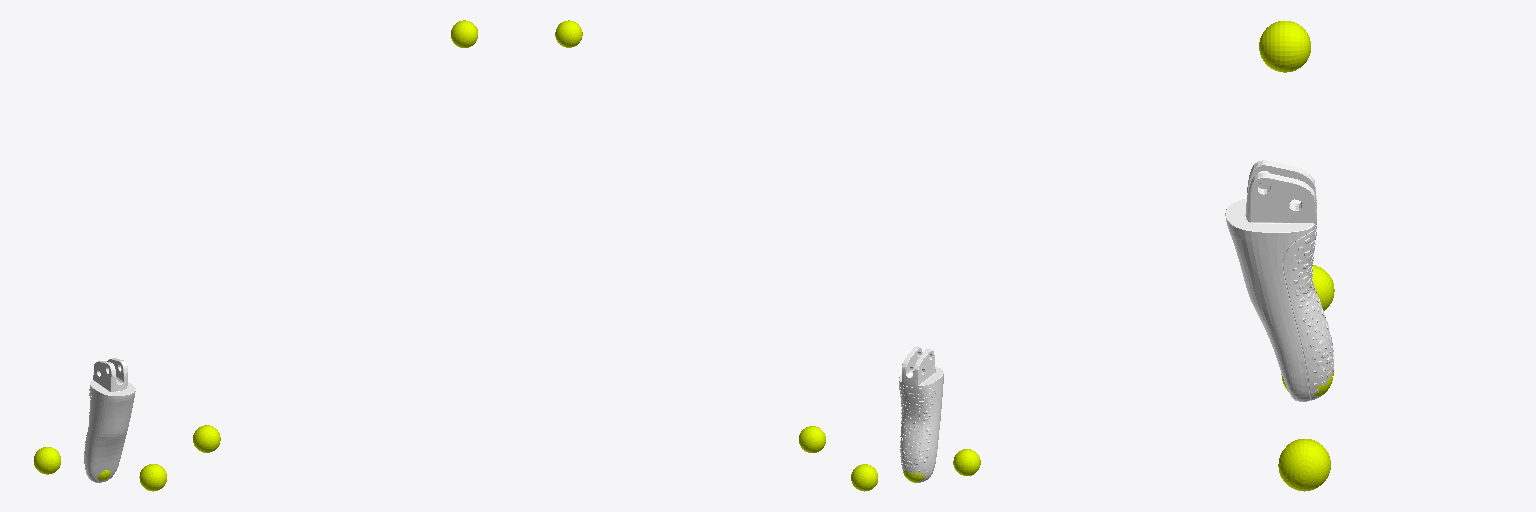
robot.urdf — fourier_right_hand_6dof:
<?xml version="1.0" encoding="utf-8"?>

<!-- 04102025-alpha-1 -->

<robot name="fourier_right_hand_6dof">
  <link
    name="R_hand_base_link">
    <inertial>
      <origin
        xyz="-0.0010591 0.0016177 -0.049492"
        rpy="0 0 0" />
      <mass
        value="0.2993" />
      <inertia
        ixx="0.00020609"
        ixy="1.23E-06"
        ixz="8.3E-06"
        iyy="0.00028713"
        iyz="-7.35E-06"
        izz="0.00014748" />
    </inertial>
    <visual>
      <origin
        xyz="0 0 0"
        rpy="0 0 0" />
      <geometry>
        <mesh
          filename="../meshes/fourier_hand_6dof/R_hand_base_link.STL" />
      </geometry>
      <material
        name="">
        <color
          rgba="1 1 1 1" />
      </material>
    </visual>
    <collision>
      <origin
        xyz="0 0 0"
        rpy="0 0 0" />
      <geometry>
        <mesh
          filename="../meshes/fourier_hand_6dof/R_hand_base_link.STL" />
      </geometry>
    </collision>
  </link>
  <!-- <joint
    name="R_hand_base_joint"
    type="fixed">
    <origin
      xyz="0 0 0"
      rpy="0 0 0" />
    <parent
      link="right_end_effector_link" />
    <child
      link="R_hand_base_link" />
    <axis
      xyz="0 0 0" />
  </joint> -->

  <link
    name="R_hand_wrist_link">
  </link>
  <joint
    name="R_hand_wrist_joint"
    type="fixed">
    <origin
      xyz="0 0 0"
      rpy="0.0872 0 0" />
    <parent
      link="R_hand_base_link" />
    <child
      link="R_hand_wrist_link" />
    <axis
      xyz="0 0 0" />
  </joint>


  <link
    name="R_thumb_proximal_yaw_link">
    <inertial>
      <origin
        xyz="0.011674 -0.00039794 -0.00044567"
        rpy="0 0 0" />
      <mass
        value="0.0084327" />
      <inertia
        ixx="3E-07"
        ixy="1E-08"
        ixz="5E-08"
        iyy="8.8E-07"
        iyz="0"
        izz="8.5E-07" />
    </inertial>
    <visual>
      <origin
        xyz="0 0 0"
        rpy="0 0 0" />
      <geometry>
        <mesh
          filename="../meshes/fourier_hand_6dof/R_thumb_proximal_yaw_link.STL" />
      </geometry>
      <material
        name="">
        <color
          rgba="1 1 1 1" />
      </material>
    </visual>
    <collision>
      <origin
        xyz="0 0 0"
        rpy="0 0 0" />
      <geometry>
        <mesh
          filename="../meshes/fourier_hand_6dof/R_thumb_proximal_yaw_link.STL" />
      </geometry>
    </collision>
  </link>
  <joint
    name="R_thumb_proximal_yaw_joint"
    type="revolute">
    <origin
      xyz="0.022 0.0155 -0.022892"
      rpy="3.1416 0 0" />
    <parent
      link="R_hand_base_link" />
    <child
      link="R_thumb_proximal_yaw_link" />
    <axis
      xyz="0 0 1" />
    <limit
      lower="-1.696"
      upper="0"
      effort="0"
      velocity="0" />
  </joint>
  <link
    name="R_thumb_proximal_pitch_link">
    <inertial>
      <origin
        xyz="0.034496 0.00048877 1.942E-05"
        rpy="0 0 0" />
      <mass
        value="0.060766" />
      <inertia
        ixx="5.08E-06"
        ixy="8.1E-07"
        ixz="2E-08"
        iyy="1.71E-05"
        iyz="0"
        izz="1.85E-05" />
    </inertial>
    <visual>
      <origin
        xyz="0 0 0"
        rpy="0 0 0" />
      <geometry>
        <mesh
          filename="../meshes/fourier_hand_6dof/R_thumb_proximal_pitch_link.STL" />
      </geometry>
      <material
        name="">
        <color
          rgba="1 1 1 1" />
      </material>
    </visual>
    <collision>
      <origin
        xyz="0 0 0"
        rpy="0 0 0" />
      <geometry>
        <mesh
          filename="../meshes/fourier_hand_6dof/R_thumb_proximal_pitch_link.STL" />
      </geometry>
    </collision>
  </link>
  <joint
    name="R_thumb_proximal_pitch_joint"
    type="revolute">
    <origin
      xyz="0.02175 -7.414E-05 0"
      rpy="1.5708 0 -0.0057076" />
    <parent
      link="R_thumb_proximal_yaw_link" />
    <child
      link="R_thumb_proximal_pitch_link" />
    <axis
      xyz="0 0 1" />
    <limit
      lower="0"
      upper="1.143"
      effort="0"
      velocity="0" />
  </joint>
  <link
    name="R_thumb_distal_link">
    <inertial>
      <origin
        xyz="0.01286229 -0.00290348 0"
        rpy="0 0 0" />
      <mass
        value="0.01802377" />
      <inertia
        ixx="8.6E-07"
        ixy="-1.4E-07"
        ixz="0"
        iyy="2E-06"
        iyz="0"
        izz="1.87E-06" />
    </inertial>
    <visual>
      <origin
        xyz="0 0 0"
        rpy="0 0 0" />
      <geometry>
        <mesh
          filename="../meshes/fourier_hand_6dof/R_thumb_distal_link.STL" />
      </geometry>
      <material
        name="">
        <color
          rgba="1 1 1 1" />
      </material>
    </visual>
    <collision>
      <origin
        xyz="0 0 0"
        rpy="0 0 0" />
      <geometry>
        <mesh
          filename="../meshes/fourier_hand_6dof/R_thumb_distal_link.STL" />
      </geometry>
    </collision>
  </link>
  <joint
    name="R_thumb_distal_joint"
    type="revolute">
    <origin
      xyz="0.061549 0.007464 0"
      rpy="0 1.7448E-05 -0.055652" />
    <parent
      link="R_thumb_proximal_pitch_link" />
    <child
      link="R_thumb_distal_link" />
    <axis
      xyz="0 0 1" />
    <limit
      lower="0"
      upper="1.248"
      effort="0"
      velocity="0" />
    <mimic
      joint="R_thumb_proximal_pitch_joint"
      multiplier="1.06"
      offset="0" />
  </joint>

  <link name="R_thumb_tip_link">
    <visual>
      <origin
        xyz="0 0 0"
        rpy="0 0 0" />
      <geometry>
        <sphere radius="0.005" />
      </geometry>
      <material name="yellow">
        <color rgba="0.9 1 0 1" />
      </material>
    </visual>
  </link>
  <joint name="R_thumb_tip_joint" type="fixed">
    <parent link="R_thumb_distal_link" />
    <child link="R_thumb_tip_link" />
    <origin rpy="0 0 0" xyz="0.030 -0.0015 0" />
  </joint>


  <link
    name="R_index_proximal_link">
    <inertial>
      <origin
        xyz="0.01388484 0.00133877 9.91E-06"
        rpy="0 0 0" />
      <mass
        value="0.01124444" />
      <inertia
        ixx="7E-07"
        ixy="2.1E-07"
        ixz="0"
        iyy="1.81E-06"
        iyz="0"
        izz="1.87E-06" />
    </inertial>
    <visual>
      <origin
        xyz="0 0 0"
        rpy="0 0 0" />
      <geometry>
        <mesh
          filename="../meshes/fourier_hand_6dof/R_index_proximal_link.STL" />
      </geometry>
      <material
        name="">
        <color
          rgba="1 1 1 1" />
      </material>
    </visual>
    <collision>
      <origin
        xyz="0 0 0"
        rpy="0 0 0" />
      <geometry>
        <mesh
          filename="../meshes/fourier_hand_6dof/R_index_proximal_link.STL" />
      </geometry>
    </collision>
  </link>
  <joint
    name="R_index_proximal_joint"
    type="revolute">
    <origin
      xyz="0.026866 0.0123 -0.09399"
      rpy="3.1416 1.5184 0" />
    <parent
      link="R_hand_base_link" />
    <child
      link="R_index_proximal_link" />
    <axis
      xyz="0 0 1" />
    <limit
      lower="-1.592"
      upper="0"
      effort="0"
      velocity="0" />
  </joint>
  <link
    name="R_index_intermediate_link">
    <inertial>
      <origin
        xyz="0.01473915 0.00479264 6.8E-06"
        rpy="0 0 0" />
      <mass
        value="0.0027085" />
      <inertia
        ixx="8E-08"
        ixy="3E-08"
        ixz="0"
        iyy="4.9E-07"
        iyz="0"
        izz="4.9E-07" />
    </inertial>
    <visual>
      <origin
        xyz="0 0 0"
        rpy="0 0 0" />
      <geometry>
        <mesh
          filename="../meshes/fourier_hand_6dof/R_index_intermediate_link.STL" />
      </geometry>
      <material
        name="">
        <color
          rgba="1 1 1 1" />
      </material>
    </visual>
    <collision>
      <origin
        xyz="0 0 0"
        rpy="0 0 0" />
      <geometry>
        <mesh
          filename="../meshes/fourier_hand_6dof/R_index_intermediate_link.STL" />
      </geometry>
    </collision>
  </link>
  <joint
    name="R_index_intermediate_joint"
    type="revolute">
    <origin
      xyz="0.031535 -0.0054349 0"
      rpy="0 0.00014037 -0.0012936" />
    <parent
      link="R_index_proximal_link" />
    <child
      link="R_index_intermediate_link" />
    <axis
      xyz="0 0 1" />
    <limit
      lower="-1.791"
      upper="0"
      effort="0"
      velocity="0" />
    <mimic
      joint="R_index_proximal_joint"
      multiplier="0.975"
      offset="0" />
  </joint>

  <link name="R_index_tip_link">
    <visual>
      <origin
        xyz="0 0 0"
        rpy="0 0 0" />
      <geometry>
        <sphere radius="0.005" />
      </geometry>
      <material name="yellow">
        <color rgba="0.9 1 0 1" />
      </material>
    </visual>
  </link>
  <joint name="R_index_tip_joint" type="fixed">
    <parent link="R_index_intermediate_link" />
    <child link="R_index_tip_link" />
    <origin rpy="0 0 0" xyz="0.0390 -0.0020 0" />
  </joint>


  <link
    name="R_middle_proximal_link">
    <inertial>
      <origin
        xyz="0.01388588 0.00132788 9.91E-06"
        rpy="0 0 0" />
      <mass
        value="0.01124444" />
      <inertia
        ixx="7E-07"
        ixy="2.1E-07"
        ixz="0"
        iyy="1.81E-06"
        iyz="0"
        izz="1.87E-06" />
    </inertial>
    <visual>
      <origin
        xyz="0 0 0"
        rpy="0 0 0" />
      <geometry>
        <mesh
          filename="../meshes/fourier_hand_6dof/R_middle_proximal_link.STL" />
      </geometry>
      <material
        name="">
        <color
          rgba="1 1 1 1" />
      </material>
    </visual>
    <collision>
      <origin
        xyz="0 0 0"
        rpy="0 0 0" />
      <geometry>
        <mesh
          filename="../meshes/fourier_hand_6dof/R_middle_proximal_link.STL" />
      </geometry>
    </collision>
  </link>
  <joint
    name="R_middle_proximal_joint"
    type="revolute">
    <origin
      xyz="0.0085 0.0123 -0.096"
      rpy="3.1416 1.5708 0" />
    <parent
      link="R_hand_base_link" />
    <child
      link="R_middle_proximal_link" />
    <axis
      xyz="0 0 1" />
    <limit
      lower="-1.593"
      upper="0"
      effort="0"
      velocity="0" />
  </joint>
  <link
    name="R_middle_intermediate_link">
    <inertial>
      <origin
        xyz="0.0183602 0.00488939 0"
        rpy="0 0 0" />
      <mass
        value="0.0032739" />
      <inertia
        ixx="9E-08"
        ixy="5E-08"
        ixz="0"
        iyy="7.9E-07"
        iyz="0"
        izz="7.8E-07" />
    </inertial>
    <visual>
      <origin
        xyz="0 0 0"
        rpy="0 0 0" />
      <geometry>
        <mesh
          filename="../meshes/fourier_hand_6dof/R_middle_intermediate_link.STL" />
      </geometry>
      <material
        name="">
        <color
          rgba="1 1 1 1" />
      </material>
    </visual>
    <collision>
      <origin
        xyz="0 0 0"
        rpy="0 0 0" />
      <geometry>
        <mesh
          filename="../meshes/fourier_hand_6dof/R_middle_intermediate_link.STL" />
      </geometry>
    </collision>
  </link>
  <joint
    name="R_middle_intermediate_joint"
    type="revolute">
    <origin
      xyz="0.031531 -0.0054597 0"
      rpy="0 0.00015517 0.007959" />
    <parent
      link="R_middle_proximal_link" />
    <child
      link="R_middle_intermediate_link" />
    <axis
      xyz="0 0 1" />
    <limit
      lower="-1.792"
      upper="0"
      effort="0"
      velocity="0" />
    <mimic
      joint="R_middle_proximal_joint"
      multiplier="0.975"
      offset="0" />
  </joint>

  <link name="R_middle_tip_link">
    <visual>
      <origin
        xyz="0 0 0"
        rpy="0 0 0" />
      <geometry>
        <sphere radius="0.005" />
      </geometry>
      <material name="yellow">
        <color rgba="0.9 1 0 1" />
      </material>
    </visual>
  </link>
  <joint name="R_middle_tip_joint" type="fixed">
    <parent link="R_middle_intermediate_link" />
    <child link="R_middle_tip_link" />
    <origin rpy="0 0 0" xyz="0.047 -0.0025 0" />
  </joint>


  <link
    name="R_ring_proximal_link">
    <inertial>
      <origin
        xyz="0.01389869 0.00118633 9.91E-06"
        rpy="0 0 0" />
      <mass
        value="0.01124444" />
      <inertia
        ixx="7E-07"
        ixy="2.2E-07"
        ixz="0"
        iyy="1.81E-06"
        iyz="0"
        izz="1.87E-06" />
    </inertial>
    <visual>
      <origin
        xyz="0 0 0"
        rpy="0 0 0" />
      <geometry>
        <mesh
          filename="../meshes/fourier_hand_6dof/R_ring_proximal_link.STL" />
      </geometry>
      <material
        name="">
        <color
          rgba="1 1 1 1" />
      </material>
    </visual>
    <collision>
      <origin
        xyz="0 0 0"
        rpy="0 0 0" />
      <geometry>
        <mesh
          filename="../meshes/fourier_hand_6dof/R_ring_proximal_link.STL" />
      </geometry>
    </collision>
  </link>
  <joint
    name="R_ring_proximal_joint"
    type="revolute">
    <origin
      xyz="-0.0099658 0.0123 -0.095888"
      rpy="0 1.5184 3.1416" />
    <parent
      link="R_hand_base_link" />
    <child
      link="R_ring_proximal_link" />
    <axis
      xyz="0 0 1" />
    <limit
      lower="-1.593"
      upper="0"
      effort="0"
      velocity="0" />
  </joint>
  <link
    name="R_ring_intermediate_link">
    <inertial>
      <origin
        xyz="0.014739 0.0047926 6.8E-06"
        rpy="0 0 0" />
      <mass
        value="0.0027085" />
      <inertia
        ixx="8E-08"
        ixy="3E-08"
        ixz="0"
        iyy="4.9E-07"
        iyz="0"
        izz="4.9E-07" />
    </inertial>
    <visual>
      <origin
        xyz="0 0 0"
        rpy="0 0 0" />
      <geometry>
        <mesh
          filename="../meshes/fourier_hand_6dof/R_ring_intermediate_link.STL" />
      </geometry>
      <material
        name="">
        <color
          rgba="1 1 1 1" />
      </material>
    </visual>
    <collision>
      <origin
        xyz="0 0 0"
        rpy="0 0 0" />
      <geometry>
        <mesh
          filename="../meshes/fourier_hand_6dof/R_ring_intermediate_link.STL" />
      </geometry>
    </collision>
  </link>
  <joint
    name="R_ring_intermediate_joint"
    type="revolute">
    <origin
      xyz="0.031474 -0.0057806 0"
      rpy="0 0.00014037 -0.020997" />
    <parent
      link="R_ring_proximal_link" />
    <child
      link="R_ring_intermediate_link" />
    <axis
      xyz="0 0 1" />
    <limit
      lower="-1.791"
      upper="0"
      effort="0"
      velocity="0" />
    <mimic
      joint="R_ring_proximal_joint"
      multiplier="0.975"
      offset="0" />
  </joint>

  <link name="R_ring_tip_link">
    <visual>
      <origin
        xyz="0 0 0"
        rpy="0 0 0" />
      <geometry>
        <sphere radius="0.005" />
      </geometry>
      <material name="green">
        <color rgba="0.9 1 0 1" />
      </material>
    </visual>
  </link>
  <joint name="R_ring_tip_joint" type="fixed">
    <parent link="R_ring_intermediate_link" />
    <child link="R_ring_tip_link" />
    <origin rpy="0 0 0" xyz="0.0385 -0.0015 0" />
  </joint>

  
  <link
    name="R_pinky_proximal_link">
    <inertial>
      <origin
        xyz="0.01389865 0.0011868 1.899E-05"
        rpy="0 0 0" />
      <mass
        value="0.01124444" />
      <inertia
        ixx="7E-07"
        ixy="2.2E-07"
        ixz="0"
        iyy="1.81E-06"
        iyz="0"
        izz="1.87E-06" />
    </inertial>
    <visual>
      <origin
        xyz="0 0 0"
        rpy="0 0 0" />
      <geometry>
        <mesh
          filename="../meshes/fourier_hand_6dof/R_pinky_proximal_link.STL" />
      </geometry>
      <material
        name="">
        <color
          rgba="1 1 1 1" />
      </material>
    </visual>
    <collision>
      <origin
        xyz="0 0 0"
        rpy="0 0 0" />
      <geometry>
        <mesh
          filename="../meshes/fourier_hand_6dof/R_pinky_proximal_link.STL" />
      </geometry>
    </collision>
  </link>
  <joint
    name="R_pinky_proximal_joint"
    type="revolute">
    <origin
      xyz="-0.028223 0.0123 -0.093963"
      rpy="0 1.4661 3.1416" />
    <parent
      link="R_hand_base_link" />
    <child
      link="R_pinky_proximal_link" />
    <axis
      xyz="0 0 1" />
    <limit
      lower="-1.592"
      upper="0"
      effort="0"
      velocity="0" />
  </joint>
  <link
    name="R_pinky_intermediate_link">
    <inertial>
      <origin
        xyz="0.012117 0.0047104 2.485E-05"
        rpy="0 0 0" />
      <mass
        value="0.0024076" />
      <inertia
        ixx="7E-08"
        ixy="1E-08"
        ixz="0"
        iyy="3.2E-07"
        iyz="0"
        izz="3.2E-07" />
    </inertial>
    <visual>
      <origin
        xyz="0 0 0"
        rpy="0 0 0" />
      <geometry>
        <mesh
          filename="../meshes/fourier_hand_6dof/R_pinky_intermediate_link.STL" />
      </geometry>
      <material
        name="">
        <color
          rgba="1 1 1 1" />
      </material>
    </visual>
    <collision>
      <origin
        xyz="0 0 0"
        rpy="0 0 0" />
      <geometry>
        <mesh
          filename="../meshes/fourier_hand_6dof/R_pinky_intermediate_link.STL" />
      </geometry>
    </collision>
  </link>
  <joint
    name="R_pinky_intermediate_joint"
    type="revolute">
    <origin
      xyz="0.031474 -0.0057796 0"
      rpy="0 7.8504E-05 -0.030132" />
    <parent
      link="R_pinky_proximal_link" />
    <child
      link="R_pinky_intermediate_link" />
    <axis
      xyz="0 0 1" />
    <limit
      lower="-1.791"
      upper="0"
      effort="0"
      velocity="0" />
    <mimic
      joint="R_pinky_proximal_joint"
      multiplier="0.975"
      offset="0" />
  </joint>

  <link name="R_pinky_tip_link">
    <visual>
      <origin
        xyz="0 0 0"
        rpy="0 0 0" />
      <geometry>
        <sphere radius="0.005" />
      </geometry>
      <material name="yellow">
        <color rgba="0.9 1 0 1" />
      </material>
    </visual>
  </link>
  <joint name="R_pinky_tip_joint" type="fixed">
    <parent link="R_pinky_intermediate_link" />
    <child link="R_pinky_tip_link" />
    <origin rpy="0 0 0" xyz="0.033 -0.0015 0" />
  </joint>


</robot>

--- Facts derived from the render (not from the file) ---
The picture shows the robot from 3 angles, left to right: view 1: azimuth 30°, elevation 25°; view 2: azimuth 150°, elevation 25°; view 3: azimuth 270°, elevation 25°; orthographic projection.
Model fourier_right_hand_6dof with 18 links and 17 joints (11 revolute, 6 fixed), rooted at R_hand_base_link, posed all joints at 0.
Links seen in each view (by area): view 1: R_ring_intermediate_link, R_index_tip_link, R_pinky_tip_link, R_thumb_tip_link, R_middle_tip_link; view 2: R_ring_intermediate_link, R_thumb_tip_link, R_index_tip_link, R_middle_tip_link, R_pinky_tip_link; view 3: R_ring_intermediate_link, R_thumb_tip_link, R_index_tip_link, R_pinky_tip_link.
Link boxes in pixels (box(x1,y1,x2,y2)): R_ring_intermediate_link: box(84, 358, 135, 482); R_index_tip_link: box(193, 425, 220, 452); R_pinky_tip_link: box(34, 447, 60, 474); R_thumb_tip_link: box(451, 20, 477, 47); R_middle_tip_link: box(139, 464, 166, 491); R_ring_intermediate_link: box(899, 347, 943, 482); R_thumb_tip_link: box(555, 20, 582, 47); R_index_tip_link: box(799, 426, 825, 452); R_middle_tip_link: box(851, 464, 877, 491); R_pinky_tip_link: box(953, 449, 980, 475); R_ring_intermediate_link: box(1225, 160, 1333, 401); R_thumb_tip_link: box(1259, 21, 1310, 72); R_index_tip_link: box(1278, 439, 1330, 491); R_pinky_tip_link: box(1312, 265, 1334, 310).
Size in the robot's own frame: 0.1801 by 0.0209 by 0.1574 metres.
Meshes: 12 distinct files referenced, 1 mesh visuals loaded (1 binary STL); not drawn: 11 (file found but could not be loaded).